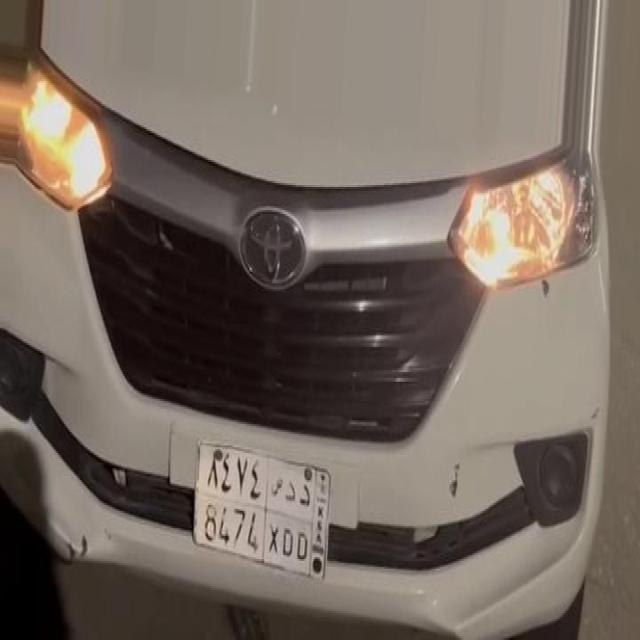Car-plate: (186, 417, 341, 607)
